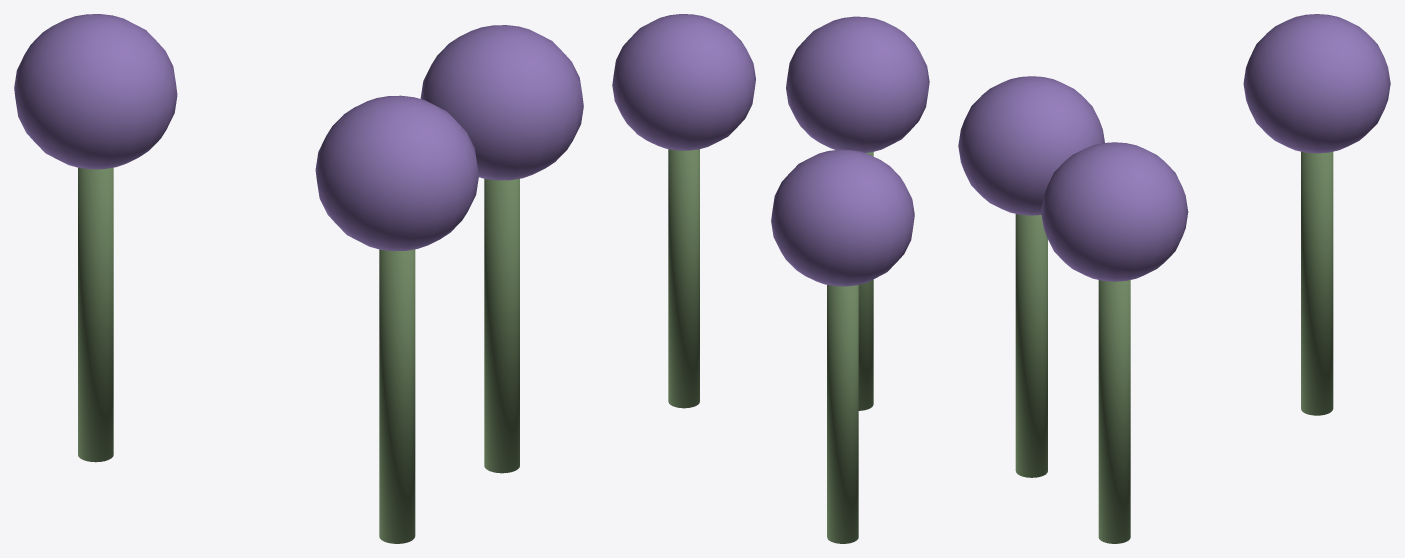
The model's file is flower.lavender-old.glb.
3 views of the same model, side by side, from view 1: azimuth 30°, elevation 25°; view 2: azimuth 150°, elevation 25°; view 3: azimuth 270°, elevation 25° (orthographic). The views are drawn at different scales.
Visible parts, largest first — view 1: stem; view 2: stem; view 3: stem.
Part boxes in pixels (x1=…): stem: x1=14, y1=14, x2=583, y2=543; stem: x1=612, y1=14, x2=929, y2=543; stem: x1=958, y1=14, x2=1390, y2=543.
Size of the model in its own units: 0.49 by 0.465 by 0.47.
